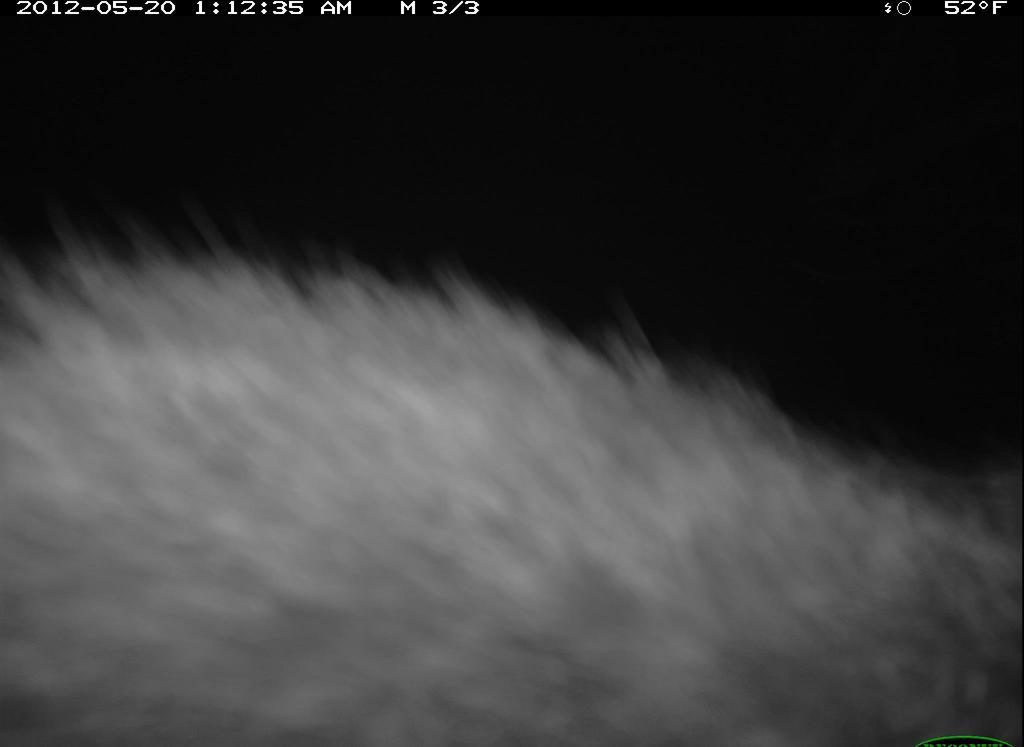raccoon: (13, 230, 1022, 742)
